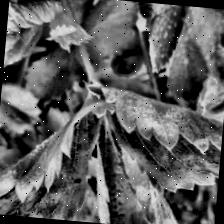Powdery Mildew Leaf: (76, 83, 224, 198), (0, 83, 115, 223), (88, 110, 192, 224)
